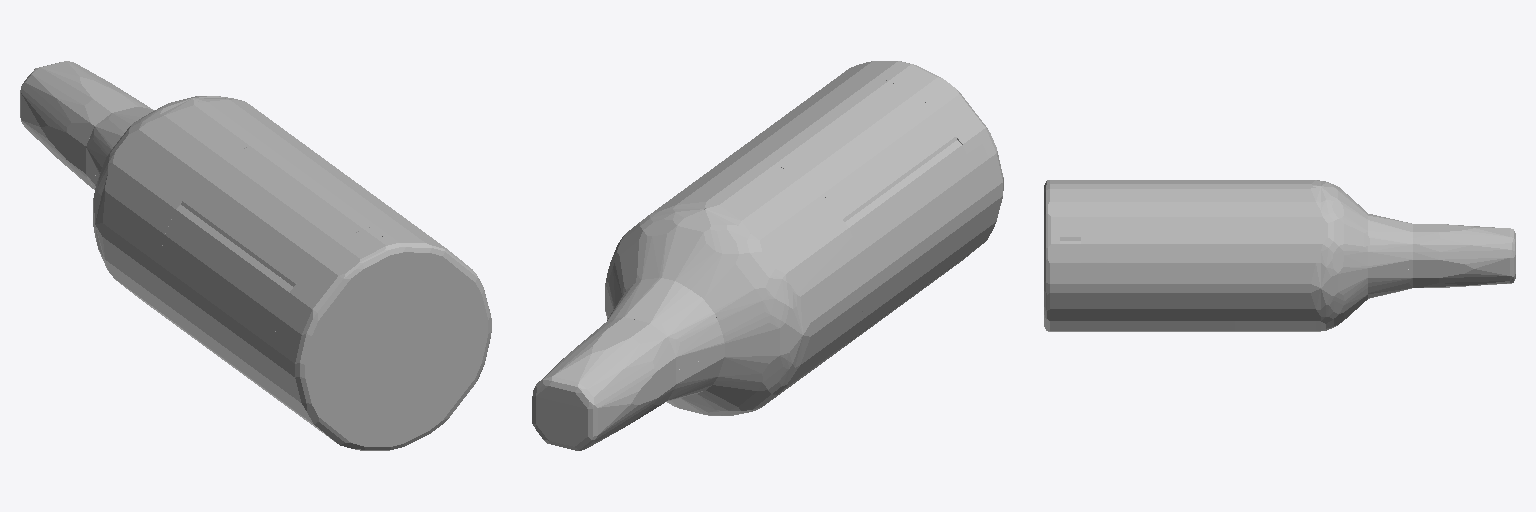
The robot description file, URDF, robot "root":
<?xml version="1.0"?>
<robot name="root">
  <link name="base_link">
    <visual>
      <origin xyz="0 0 0" rpy="0 0 0" />
      <geometry>
        <mesh filename="../meshes/unidex_core_bottle-1ae823260851f7d9ea600d1a6d9f6e07_008.obj" scale="1.0000E+00 1.0000E+00 1.0000E+00" />
      </geometry>
      <material name="">
        <color rgba="7.50E-01 7.50E-01 7.50E-01 1" />
      </material>
    </visual>
    <collision>
      <origin xyz="0 0 0" rpy="0 0 0" />
      <geometry>
        <mesh filename="../meshes/unidex_core_bottle-1ae823260851f7d9ea600d1a6d9f6e07_008.obj" scale="1.0000E+00 1.0000E+00 1.0000E+00" />
      </geometry>
    </collision>
  </link>
</robot>

--- What the picture shows (computed from the rendered views, not written in the file) ---
The picture shows the robot from 3 angles, left to right: view 1: azimuth 30°, elevation 25°; view 2: azimuth 150°, elevation 25°; view 3: azimuth 270°, elevation 25°; orthographic projection.
Model root with 1 links and 0 joints (none), rooted at base_link, posed every joint at zero.
Links seen in each view (by area): view 1: base_link; view 2: base_link; view 3: base_link.
Boxes of the visible links, left/top/right/bottom form: base_link: left=20, top=61, right=491, bottom=450; base_link: left=532, top=61, right=1003, bottom=450; base_link: left=1044, top=180, right=1515, bottom=331.
Size in the robot's own frame: 0.0489 by 0.1499 by 0.0489 metres.
Meshes: 1 distinct files referenced, 1 mesh visuals loaded (1 OBJ).
